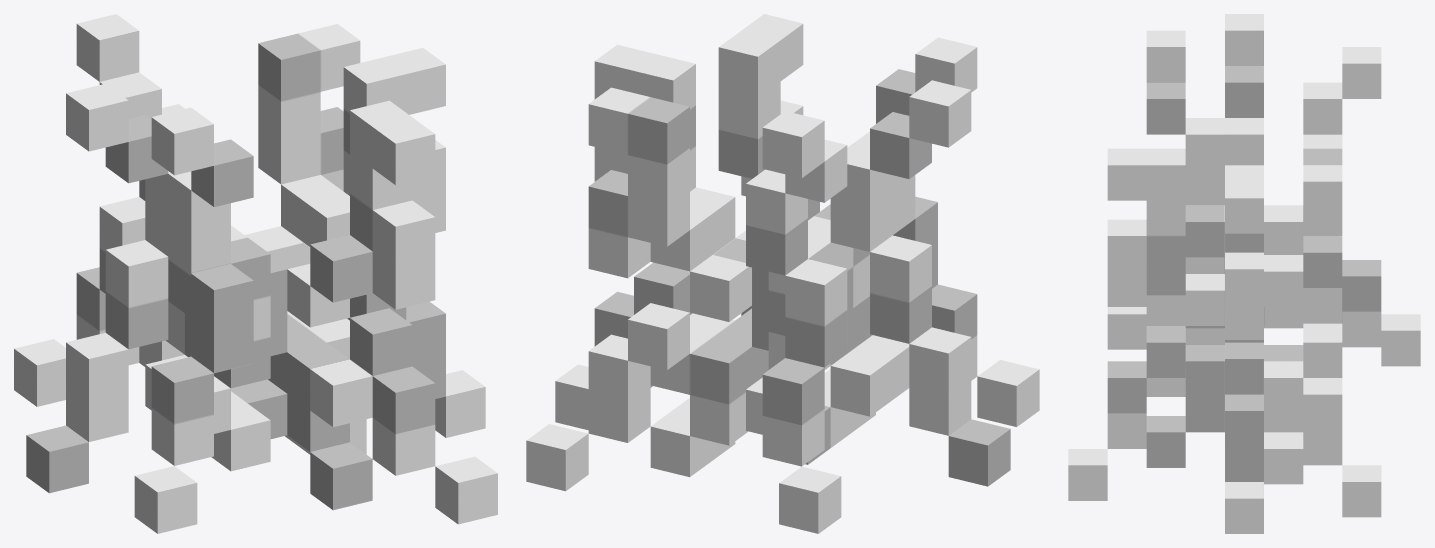
The model's file is Web_1.glb.
3 views of the same model, side by side, from view 1: azimuth 30°, elevation 25°; view 2: azimuth 150°, elevation 25°; view 3: azimuth 270°, elevation 25° (orthographic). The views are drawn at different scales.
Visible parts, largest first — view 1: Web_1; view 2: Web_1; view 3: Web_1.
Boxes of the visible parts, left/top/right/bottom form: Web_1: left=14, top=14, right=497, bottom=533; Web_1: left=526, top=14, right=1039, bottom=533; Web_1: left=1068, top=14, right=1420, bottom=533.
Bounding box in the file's own units: 1.1 × 1 × 0.9.
1 material, 1 textured.
